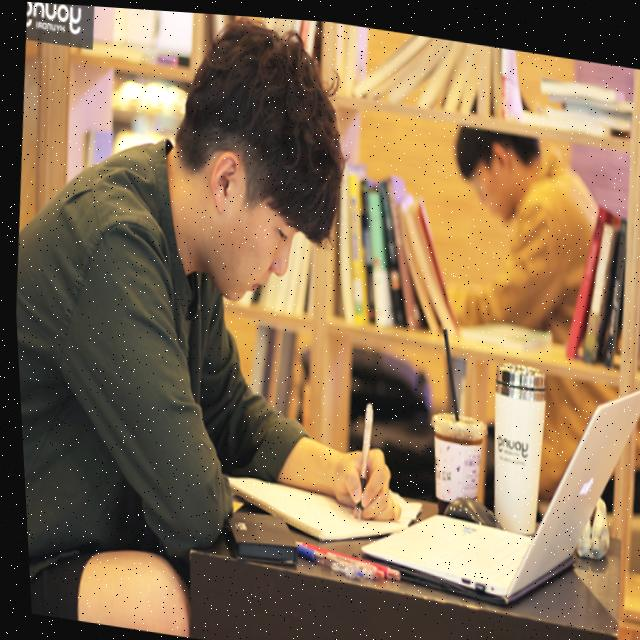studying-person: (0, 0, 459, 640)
